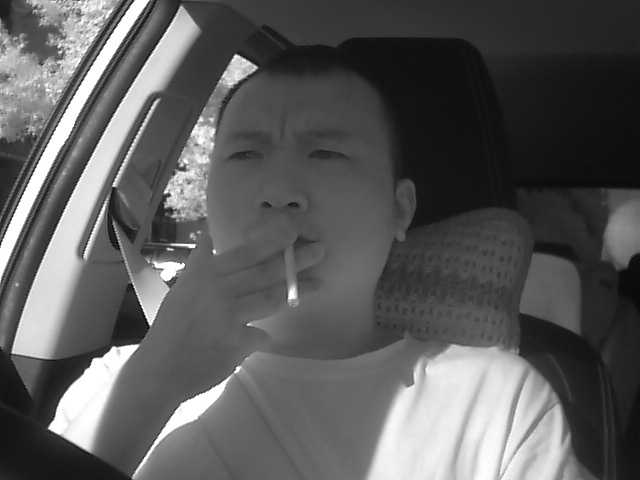hand: (158, 223, 315, 408)
